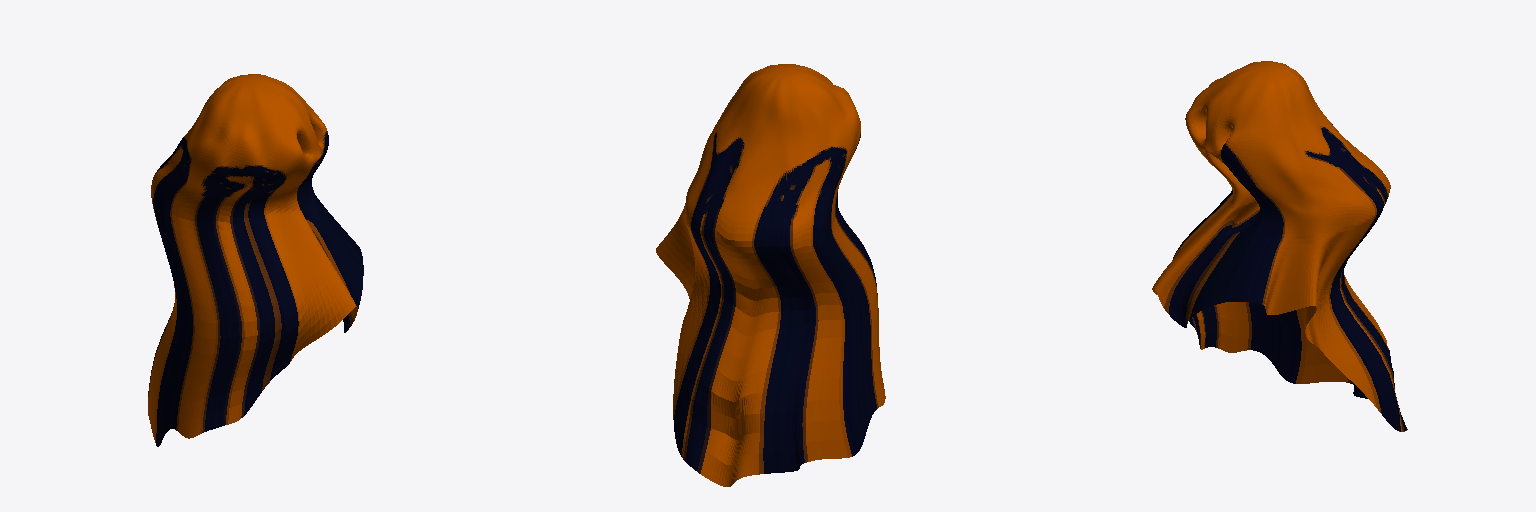
3 renders of one model, left to right at view 1: azimuth 30°, elevation 25°; view 2: azimuth 150°, elevation 25°; view 3: azimuth 270°, elevation 25°, orthographic.
Parts seen in each view (by area): view 1: 球体; view 2: 球体; view 3: 球体.
Part boxes in pixels (bbox=[...]): 球体: bbox=[148, 74, 363, 446]; 球体: bbox=[656, 64, 885, 486]; 球体: bbox=[1152, 61, 1407, 431].
Size of the model in its own units: 8.62 by 15.89 by 10.03.
Materials: 1 (1 with a texture image).